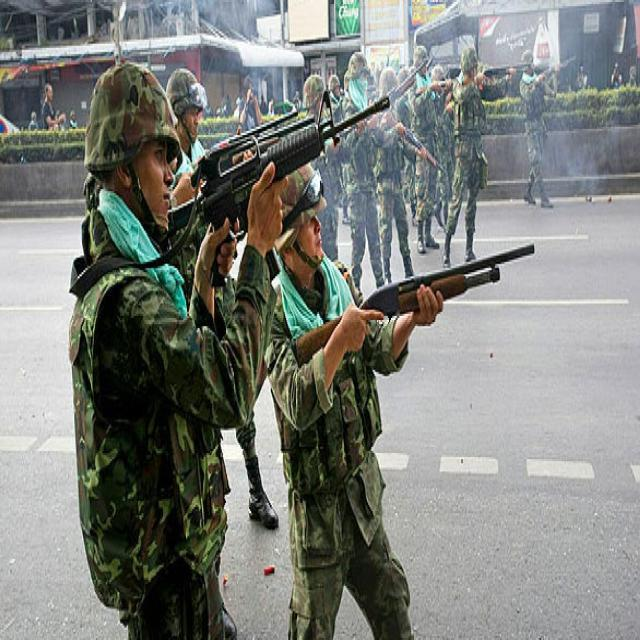m16: (106, 41, 410, 238)
